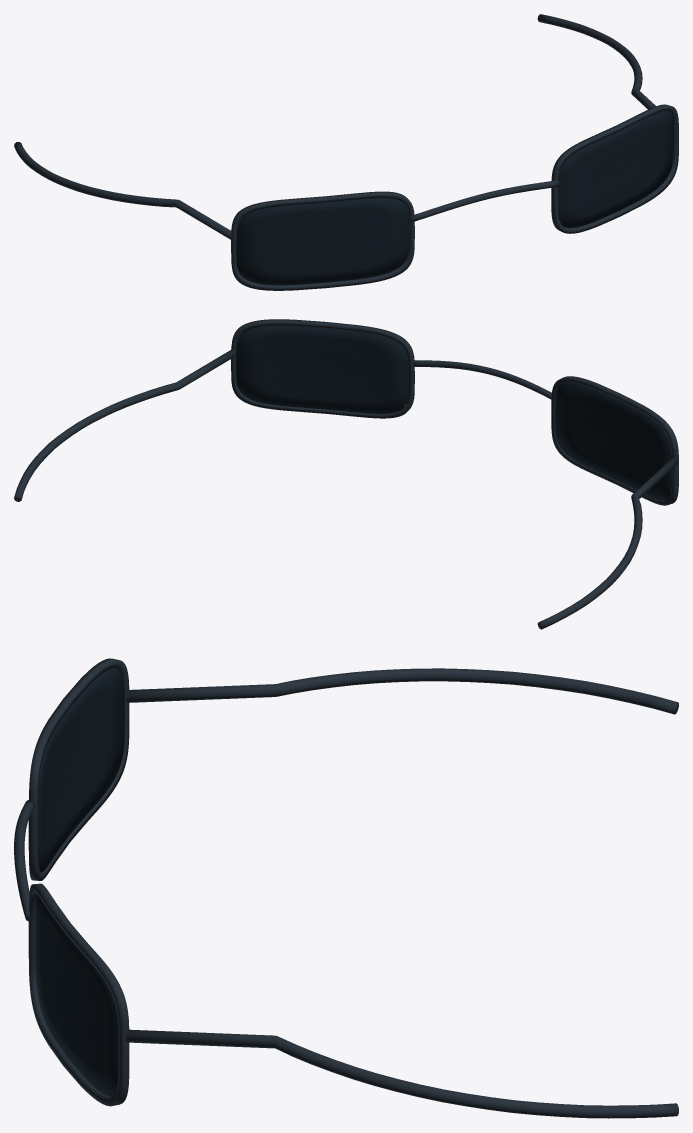
File: goose-face-sunglasses.glb
3 renders of one model, top to bottom at view 1: azimuth 30°, elevation 25°; view 2: azimuth 150°, elevation 25°; view 3: azimuth 270°, elevation 25°, orthographic. The views are drawn at different scales.
Visible parts, largest first — view 1: goose_face_sunglasses_mesh; view 2: goose_face_sunglasses_mesh; view 3: goose_face_sunglasses_mesh.
Part boxes in pixels (x1=…): goose_face_sunglasses_mesh: x1=14, y1=14, x2=678, y2=290; goose_face_sunglasses_mesh: x1=14, y1=319, x2=678, y2=629; goose_face_sunglasses_mesh: x1=14, y1=658, x2=678, y2=1118.
Size of the model in its own units: 0.8688 by 0.132 by 0.5628.
